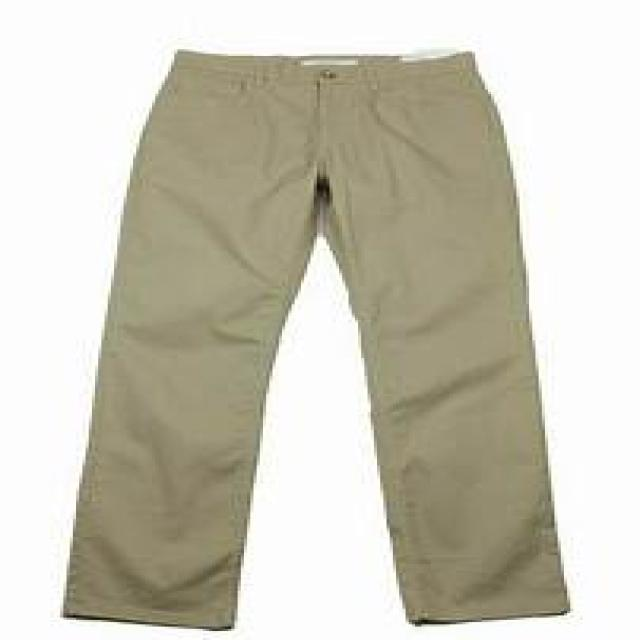long-pants: (62, 48, 572, 630)
